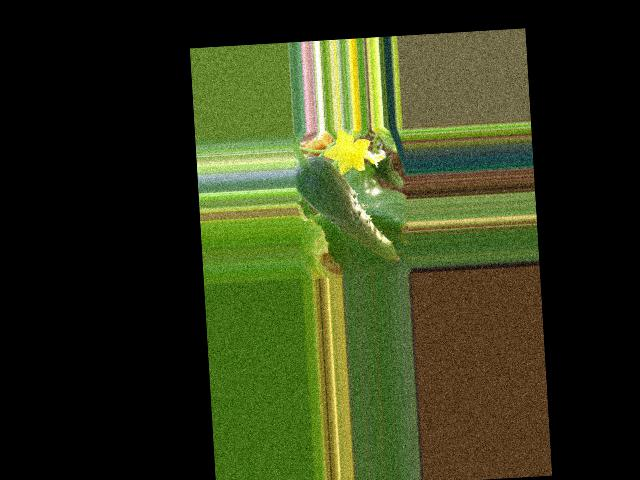cucumber: (293, 151, 400, 267)
